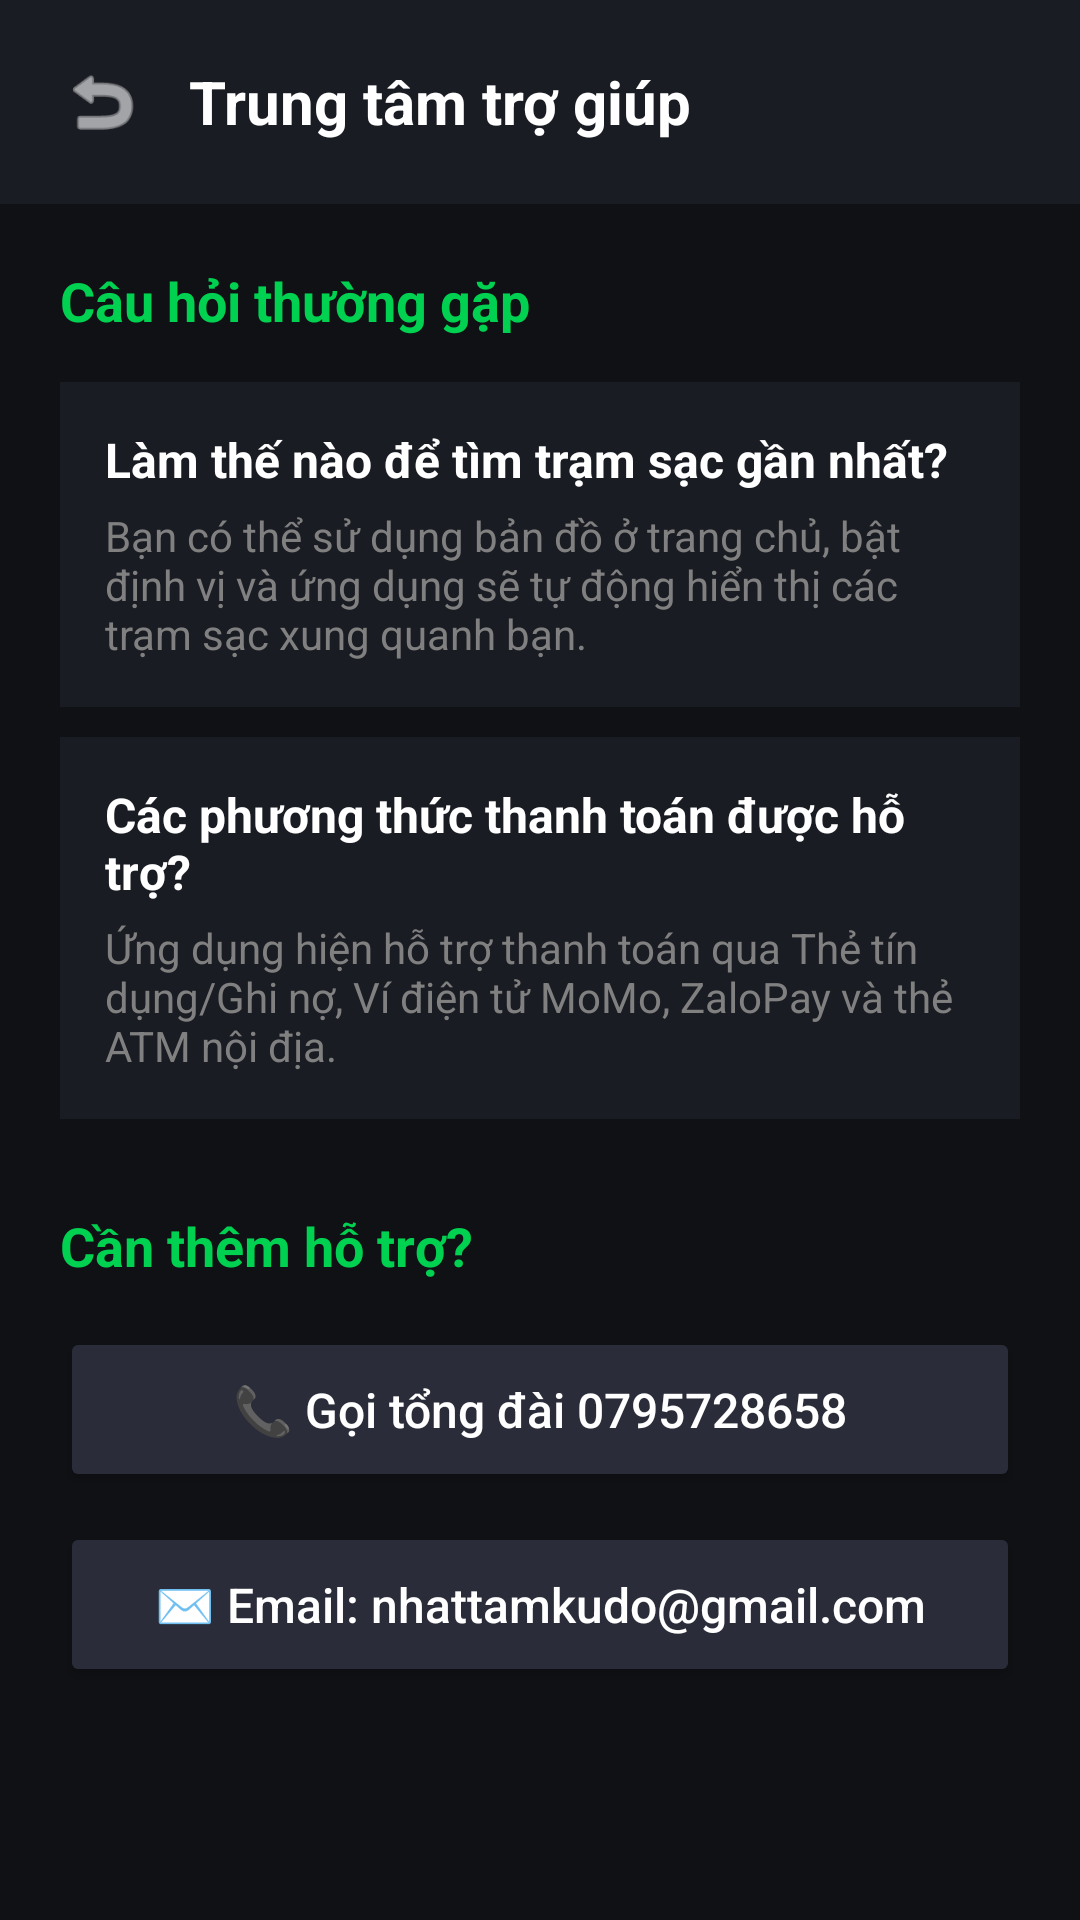

Named icons in this screenshot (1080px x 1920px) and their bounding boxes, (x1, y1, x2, y2):
revert: (73, 75, 133, 130)
